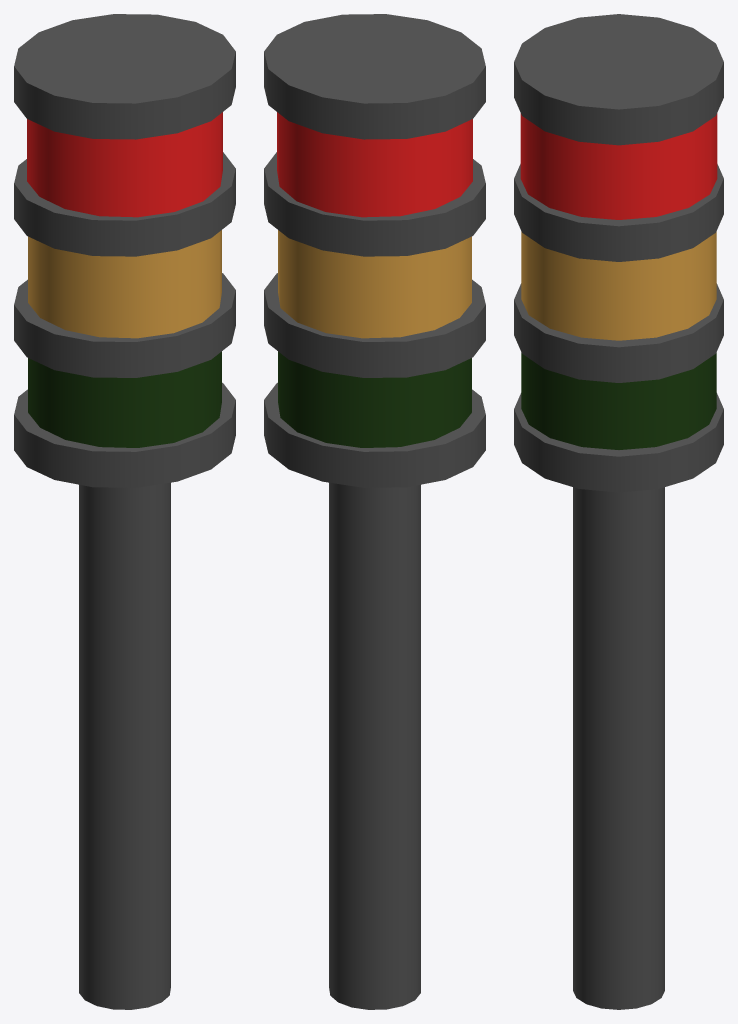
File: technolog_scene_model_1.gltf
The picture shows the model from 3 angles, left to right: view 1: azimuth 30°, elevation 25°; view 2: azimuth 150°, elevation 25°; view 3: azimuth 270°, elevation 25°; orthographic projection.
Parts seen in each view (by area): view 1: Цилиндр.003, Цилиндр.007, Цилиндр.001, Цилиндр.006, Цилиндр.002, Цилиндр.010, Цилиндр.009, Цилиндр.008; view 2: Цилиндр.003, Цилиндр.007, Цилиндр.001, Цилиндр.006, Цилиндр.002, Цилиндр.010, Цилиндр.009, Цилиндр.008; view 3: Цилиндр.003, Цилиндр.007, Цилиндр.001, Цилиндр.006, Цилиндр.002, Цилиндр.010, Цилиндр.009, Цилиндр.008.
Part boxes in pixels (box(x1,y1,x2,y2)): Цилиндр.003: box(79, 482, 170, 1009); Цилиндр.007: box(14, 14, 235, 139); Цилиндр.001: box(28, 230, 221, 338); Цилиндр.006: box(27, 112, 222, 217); Цилиндр.002: box(28, 351, 221, 447); Цилиндр.010: box(14, 382, 235, 487); Цилиндр.009: box(14, 273, 235, 377); Цилиндр.008: box(14, 152, 235, 256); Цилиндр.003: box(329, 482, 420, 1009); Цилиндр.007: box(264, 14, 485, 139); Цилиндр.001: box(278, 230, 471, 338); Цилиндр.006: box(277, 112, 472, 217); Цилиндр.002: box(278, 351, 471, 447); Цилиндр.010: box(264, 382, 485, 487); Цилиндр.009: box(264, 273, 485, 377); Цилиндр.008: box(264, 152, 485, 256); Цилиндр.003: box(573, 487, 664, 1009); Цилиндр.007: box(514, 14, 723, 145); Цилиндр.001: box(521, 231, 716, 340); Цилиндр.006: box(520, 113, 717, 219); Цилиндр.002: box(521, 352, 716, 449); Цилиндр.010: box(514, 393, 723, 492); Цилиндр.009: box(514, 283, 723, 382); Цилиндр.008: box(514, 164, 723, 261).
Bounding box in the file's own units: 2.95 × 13.37 × 2.74.
